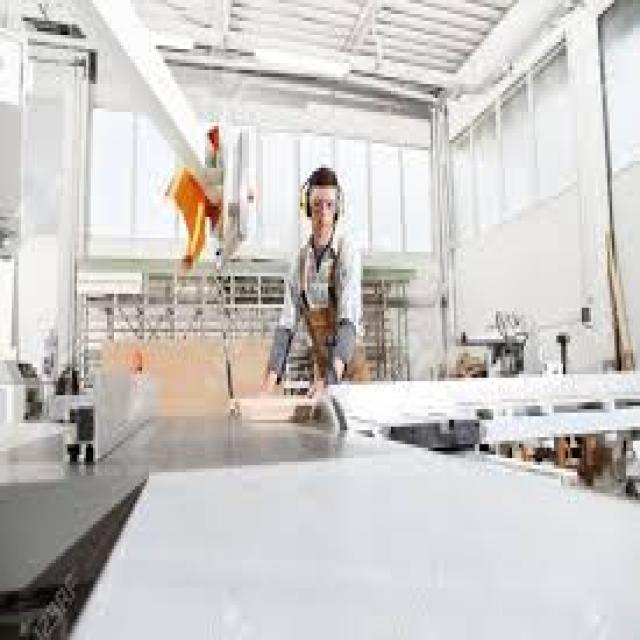Ear-protection: (296, 178, 310, 217), (335, 189, 347, 213)
person: (258, 162, 377, 421)
